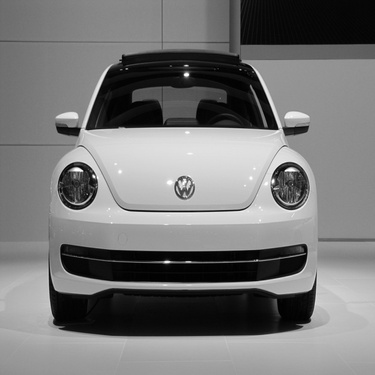car: (24, 37, 323, 335)
